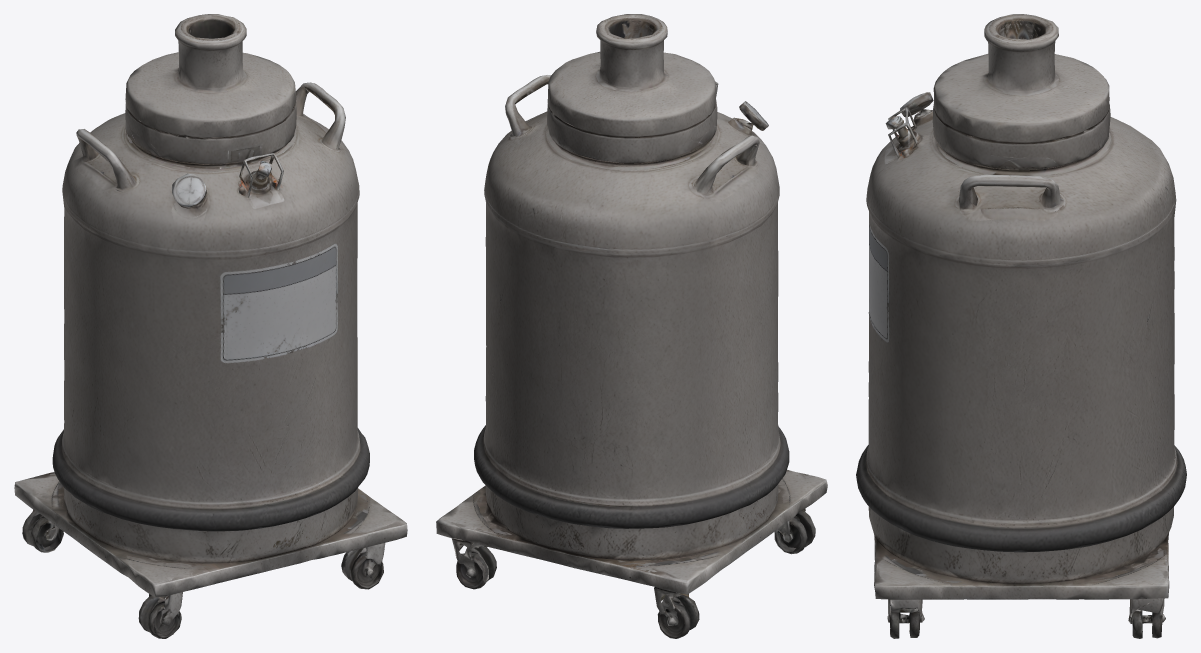
File: B3_CryogenicDewar.fbx
The picture shows the model from 3 angles, left to right: view 1: azimuth 30°, elevation 25°; view 2: azimuth 150°, elevation 25°; view 3: azimuth 270°, elevation 25°; orthographic projection. The views are drawn at different scales.
Parts seen in each view (by area): view 1: texture_mapping; view 2: texture_mapping; view 3: texture_mapping.
Part boxes in pixels (x1,y1,x2,y2): texture_mapping: (14,14,407,638); texture_mapping: (436,14,827,638); texture_mapping: (856,14,1186,638).
Size of the model in its own units: 64.26 by 120 by 64.14.
Materials: 1 (1 with a texture image).
